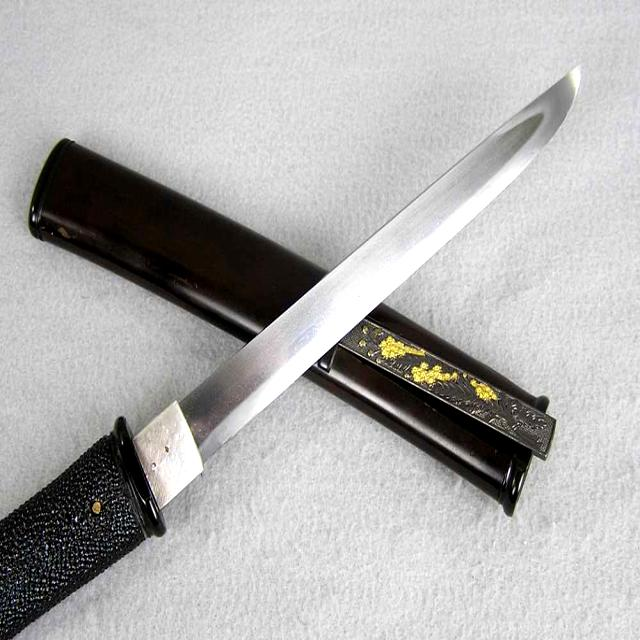short sword: (23, 66, 588, 608)
